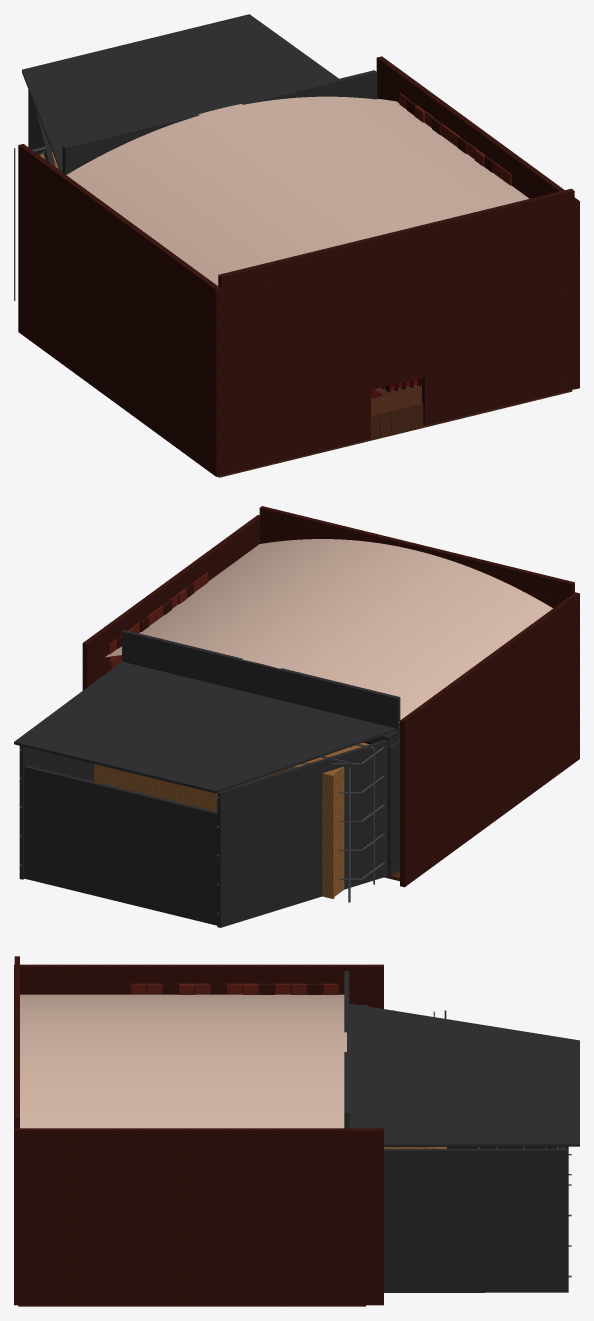
The model's file is grand-theatre-campus.glb.
3 renders of one model, top to bottom at view 1: azimuth 30°, elevation 25°; view 2: azimuth 150°, elevation 25°; view 3: azimuth 270°, elevation 25°, orthographic. The views are drawn at different scales.
Visible parts, largest first — view 1: Grand_wood2, Grand_cream, Grand_black, Grand_floor_dark, Grand_wood; view 2: Grand_black, Grand_wood2, Grand_cream, GrandAcousticShell, Grand_steel, Grand_wood; view 3: Grand_wood2, Grand_black, Grand_cream, Grand_wood, Grand_floor_dark.
Part boxes in pixels (box(x1,y1,x2,y2)): Grand_wood2: box(18, 56, 579, 476); Grand_cream: box(66, 96, 529, 285); Grand_black: box(22, 14, 377, 174); Grand_floor_dark: box(218, 383, 572, 477); Grand_wood: box(399, 93, 511, 185); Grand_black: box(14, 630, 400, 927); Grand_wood2: box(82, 506, 579, 887); Grand_cream: box(105, 539, 552, 722); GrandAcousticShell: box(94, 742, 369, 898); Grand_steel: box(19, 744, 384, 914); Grand_wood: box(109, 572, 208, 670); Grand_wood2: box(14, 956, 383, 1305); Grand_black: box(344, 971, 579, 1292); Grand_cream: box(20, 994, 346, 1128); Grand_wood: box(131, 983, 338, 994); Grand_floor_dark: box(18, 1305, 365, 1306).
Size of the model in its own units: 35 by 18.6 by 50.5.
16 materials, 9 textured.
